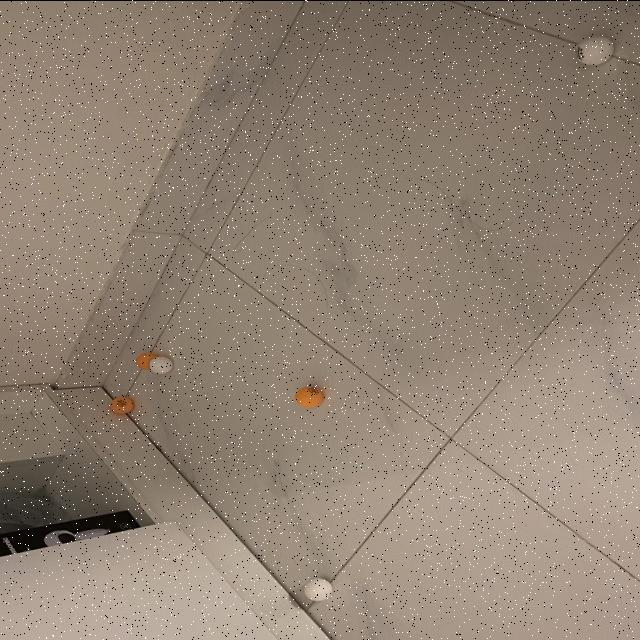ping-pong-ball: (572, 34, 616, 66), (302, 577, 334, 600), (295, 384, 324, 406), (108, 394, 134, 414), (135, 350, 161, 370), (147, 355, 175, 373)
